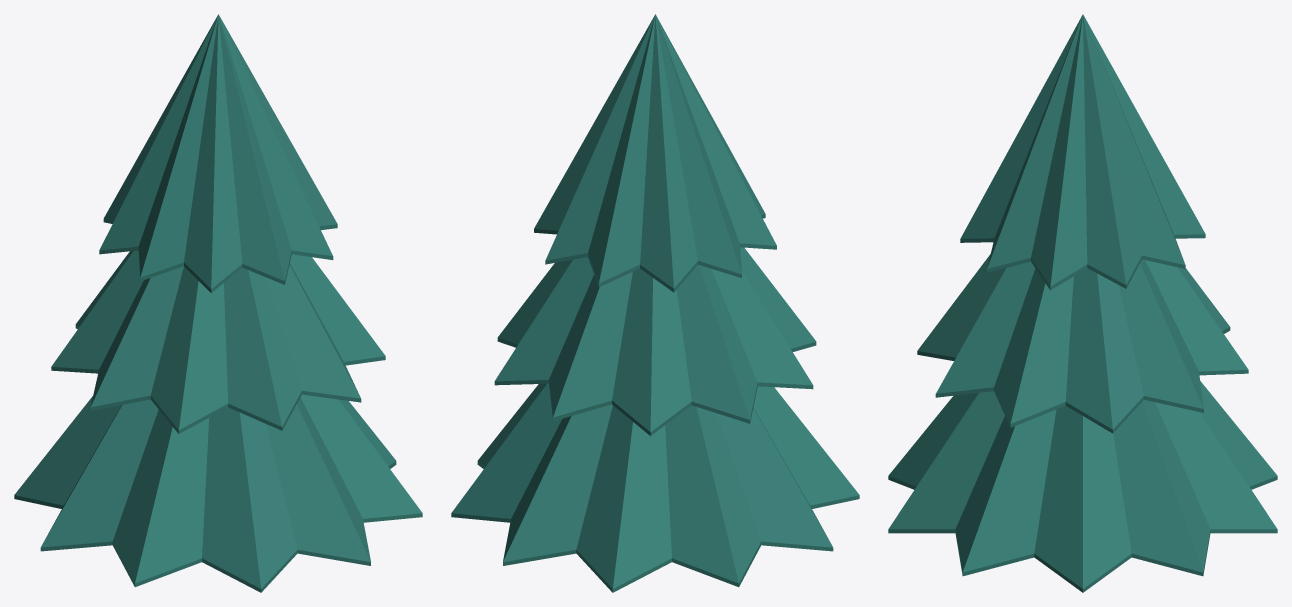
The picture shows the model from 3 angles, left to right: view 1: azimuth 30°, elevation 25°; view 2: azimuth 150°, elevation 25°; view 3: azimuth 270°, elevation 25°; orthographic projection.
Parts seen in each view (by area): view 1: 三层折叶树冠_1.001; view 2: 三层折叶树冠_1.001; view 3: 三层折叶树冠_1.001.
Boxes of the visible parts, x1,y1,x2,y2 form: 三层折叶树冠_1.001: (14,14,422,592); 三层折叶树冠_1.001: (451,14,859,592); 三层折叶树冠_1.001: (888,14,1277,592).
Bounding box in the file's own units: 0.768 × 1.02 × 0.7304.
